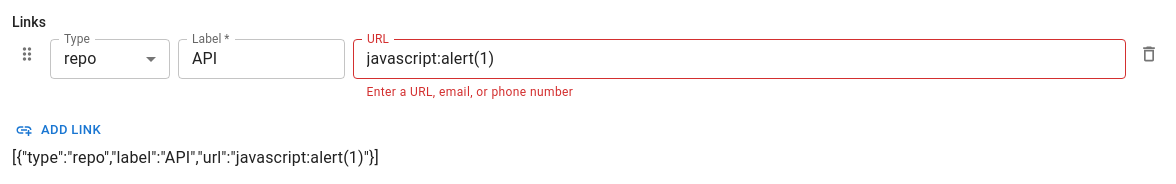
Test: LinkEditor › rejects a non-allowlisted url scheme and accepts an https one
Expected: the text "Enter a URL, email, or phone number" is shown, [366,85,573,99]
Replace the text in the field labelled "URL" with "https://good.example.com": point(739, 59) [352,39,1126,79]
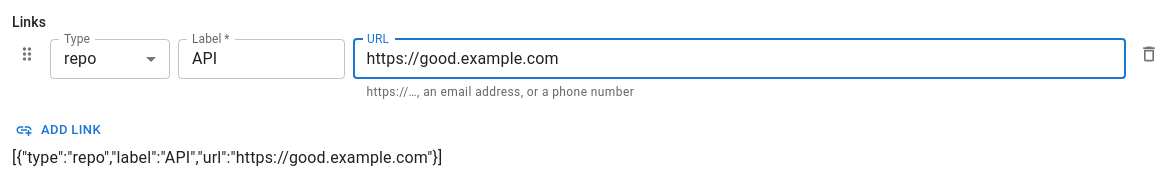
Expected: the text "Enter a URL, email, or phone number" is gone
